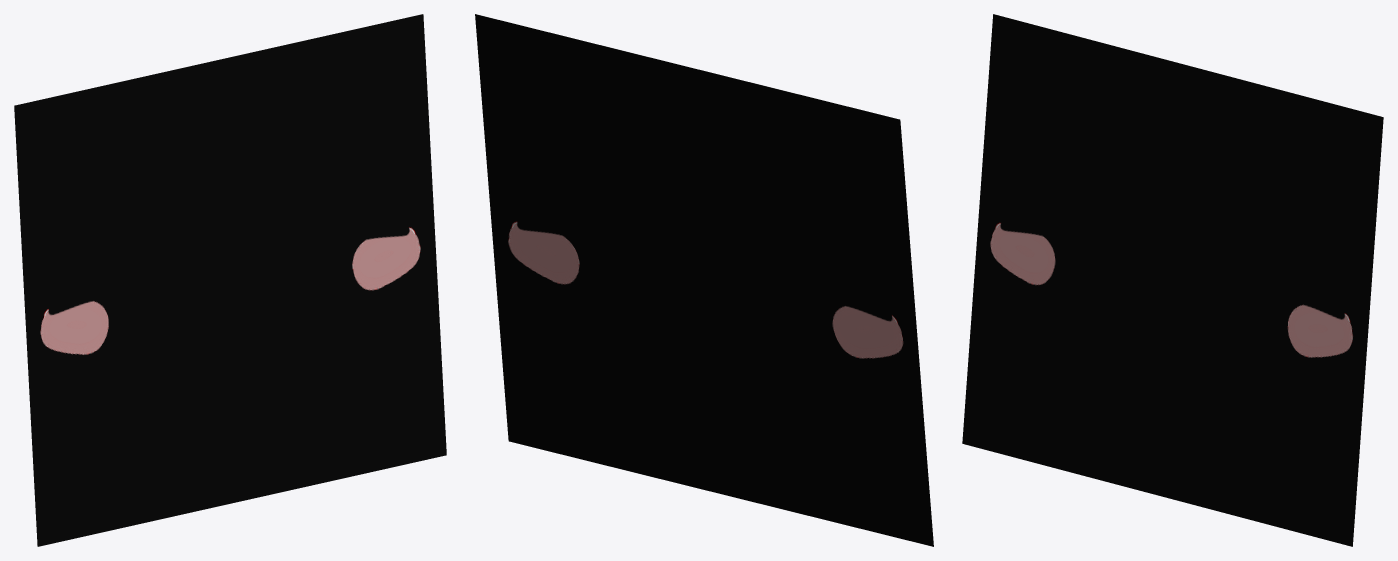
The picture shows the model from 3 angles, left to right: view 1: azimuth 30°, elevation 25°; view 2: azimuth 150°, elevation 25°; view 3: azimuth 330°, elevation 25°; orthographic projection. The views are drawn at different scales.
Parts seen in each view (by area): view 1: 평면; view 2: 평면; view 3: 평면.
Part boxes in pixels (x1=…): 평면: x1=14, y1=14, x2=446, y2=546; 평면: x1=475, y1=14, x2=933, y2=546; 평면: x1=962, y1=14, x2=1383, y2=546.
Size of the model in its own units: 1.22 by 1.21 by 0.169.
1 material, 1 textured.
